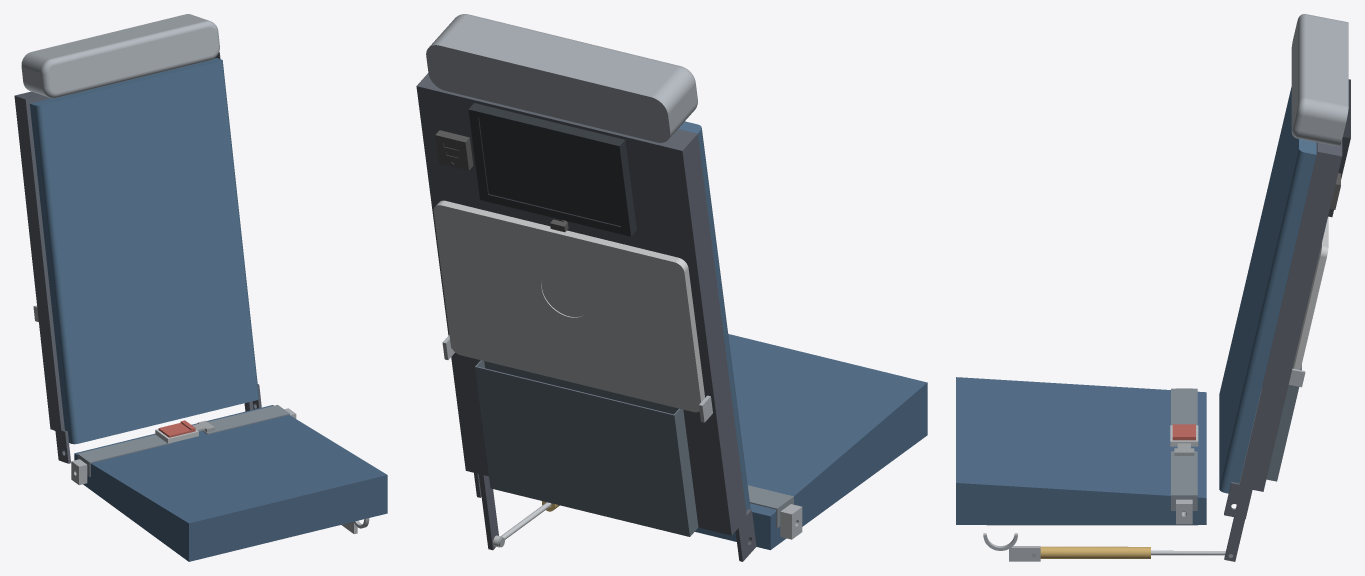
The model's file is step_06.glb.
3 views of the same model, side by side, from view 1: azimuth 30°, elevation 25°; view 2: azimuth 150°, elevation 25°; view 3: azimuth 270°, elevation 25° (orthographic). The views are drawn at different scales.
Visible parts, largest first — view 1: part__back cushion cover, part__cushion cover, part__head rest, part__back shell, part__belt webbing, buckle side, part__belt webbing, adjuster side; view 2: part__tray table, part__back shell, part__literature pocket, part__cushion cover, part__head rest, part__entertainment screen, part__back cushion cover, part__power and audio module, part__belt webbing, buckle side, part__belt anchor, left; view 3: part__cushion cover, part__back cushion cover, part__back shell, part__head rest, part__recline lock, part__belt webbing, adjuster side, part__tray table, part__literature pocket, part__belt webbing, buckle side, part__recline lock bracket, part__entertainment screen.
Boxes of the visible parts, x1,y1,x2,y2 form: part__back cushion cover: (29, 58, 259, 444); part__cushion cover: (74, 405, 387, 561); part__head rest: (21, 14, 219, 98); part__back shell: (14, 52, 261, 463); part__belt webbing, buckle side: (77, 434, 171, 476); part__belt webbing, adjuster side: (202, 405, 289, 434); part__tray table: (433, 200, 704, 412); part__back shell: (416, 73, 756, 561); part__literature pocket: (475, 360, 698, 536); part__cushion cover: (695, 334, 927, 550); part__head rest: (426, 14, 697, 142); part__entertainment screen: (468, 103, 636, 236); part__back cushion cover: (678, 121, 750, 510); part__power and audio module: (435, 130, 473, 170); part__belt webbing, buckle side: (747, 485, 793, 528); part__belt anchor, left: (780, 504, 802, 539); part__cushion cover: (956, 377, 1206, 524); part__back cushion cover: (1219, 87, 1316, 493); part__back shell: (1224, 140, 1342, 561); part__head rest: (1291, 14, 1348, 146); part__recline lock: (1040, 546, 1150, 558); part__belt webbing, adjuster side: (1171, 451, 1197, 510); part__tray table: (1292, 216, 1328, 369); part__literature pocket: (1266, 364, 1301, 481); part__belt webbing, buckle side: (1171, 388, 1197, 425); part__recline lock bracket: (983, 533, 1040, 561); part__entertainment screen: (1328, 79, 1350, 217).
Size of the model in its own units: 492 by 903 by 709.
